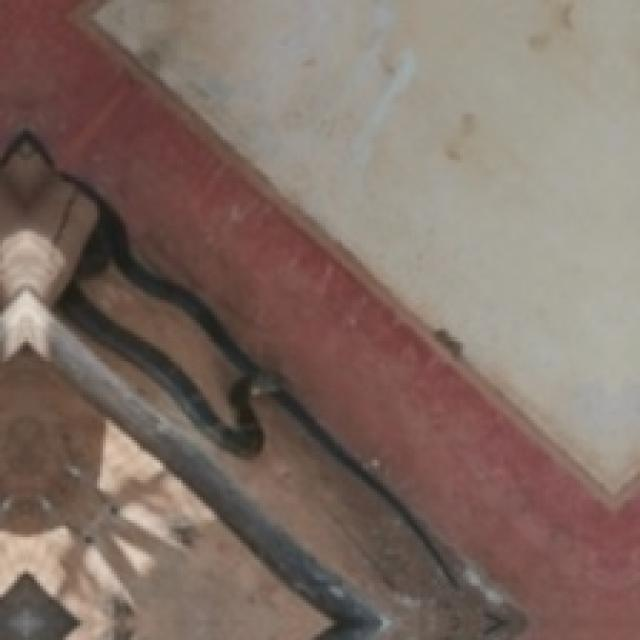king cobra: (0, 134, 520, 637)
